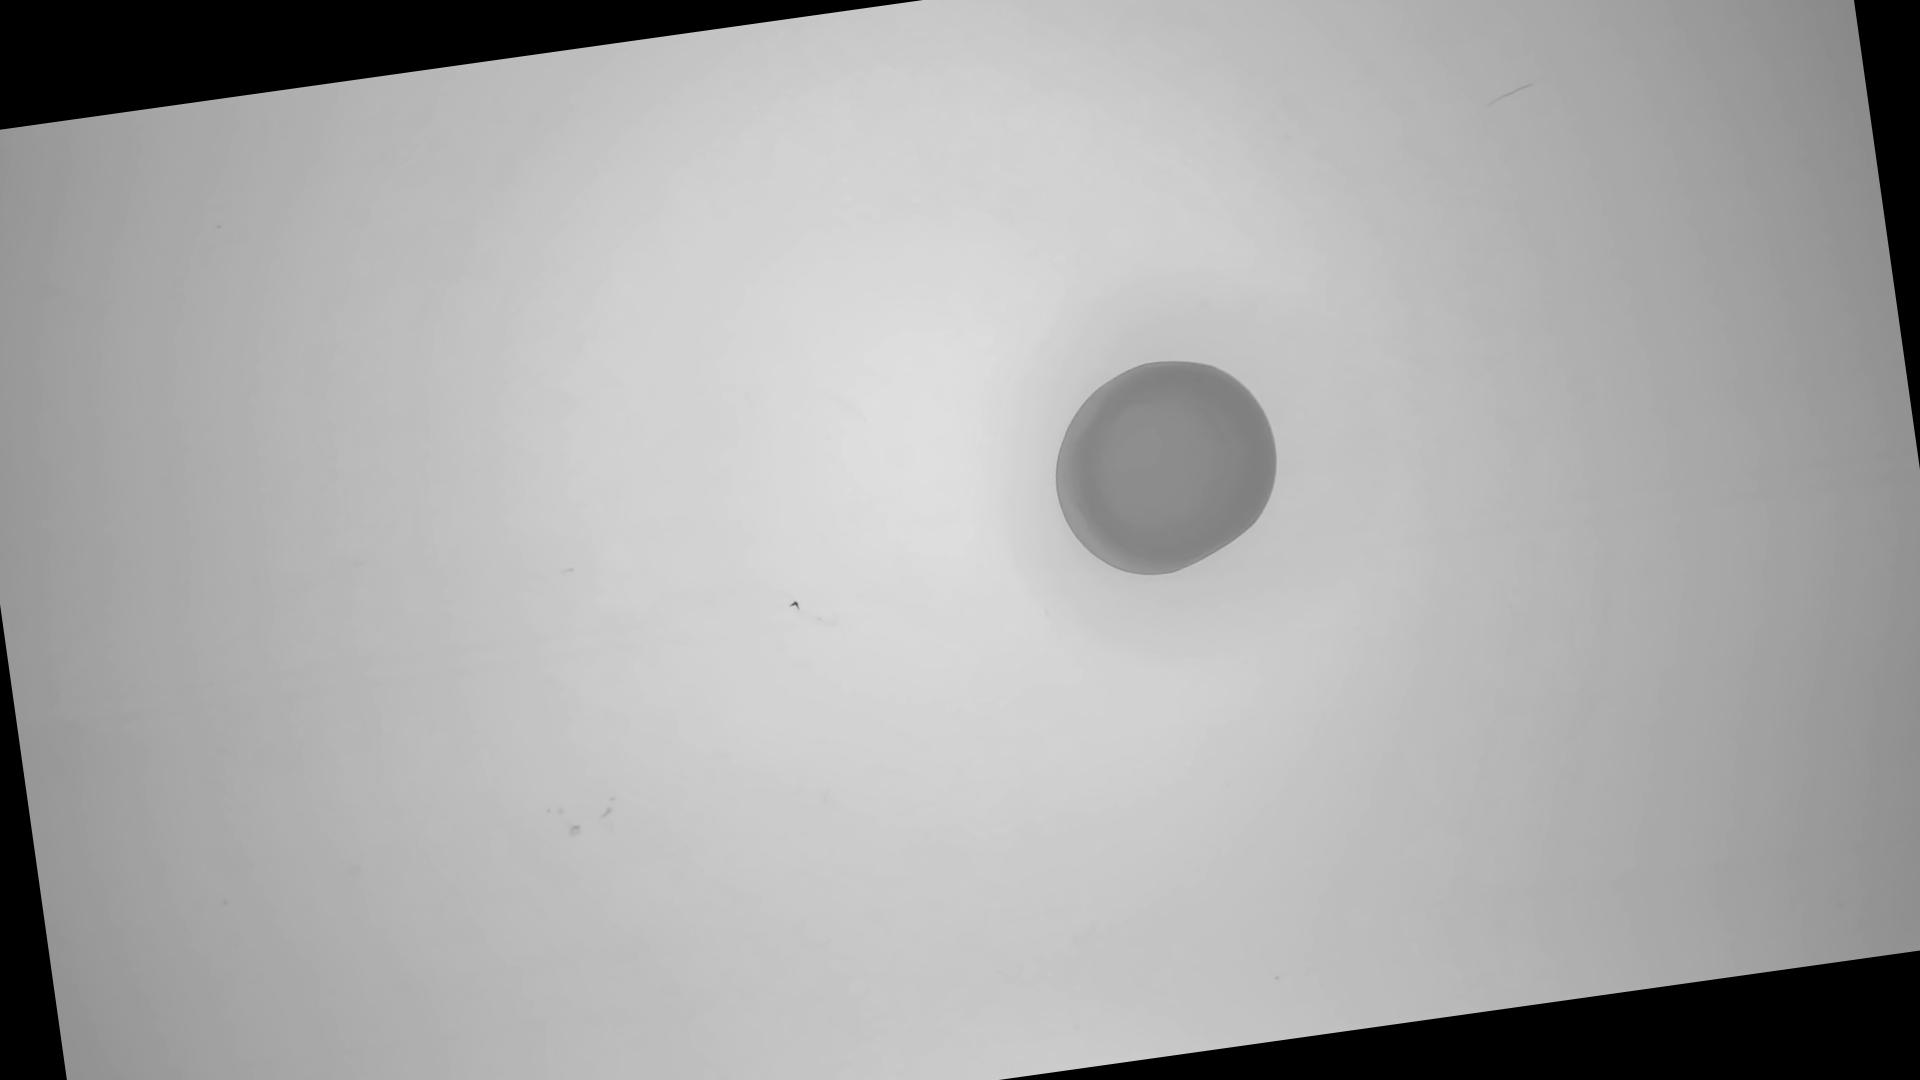normal: (1040, 344, 1295, 592)
